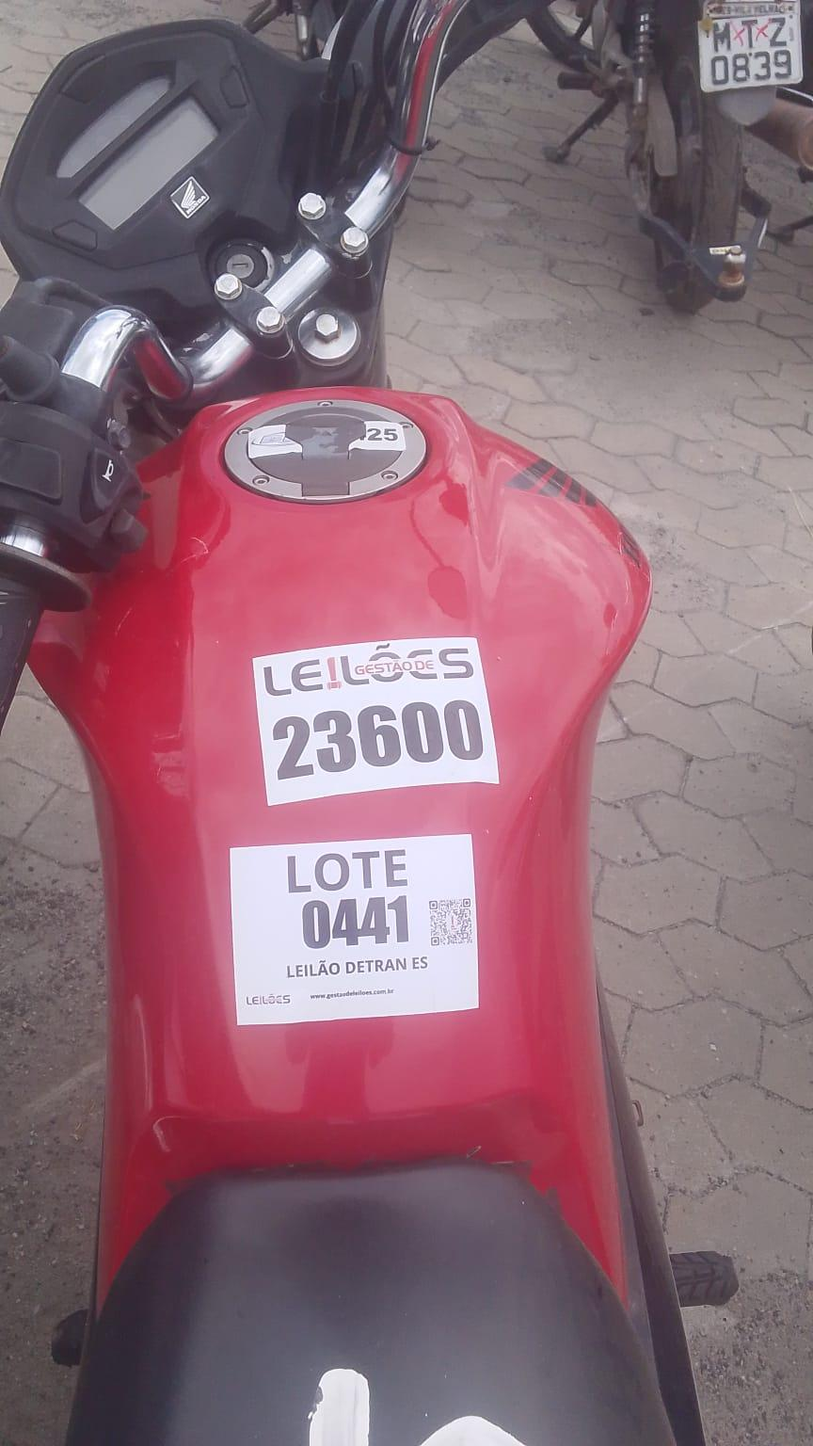Caractere: (265, 696, 488, 786)
